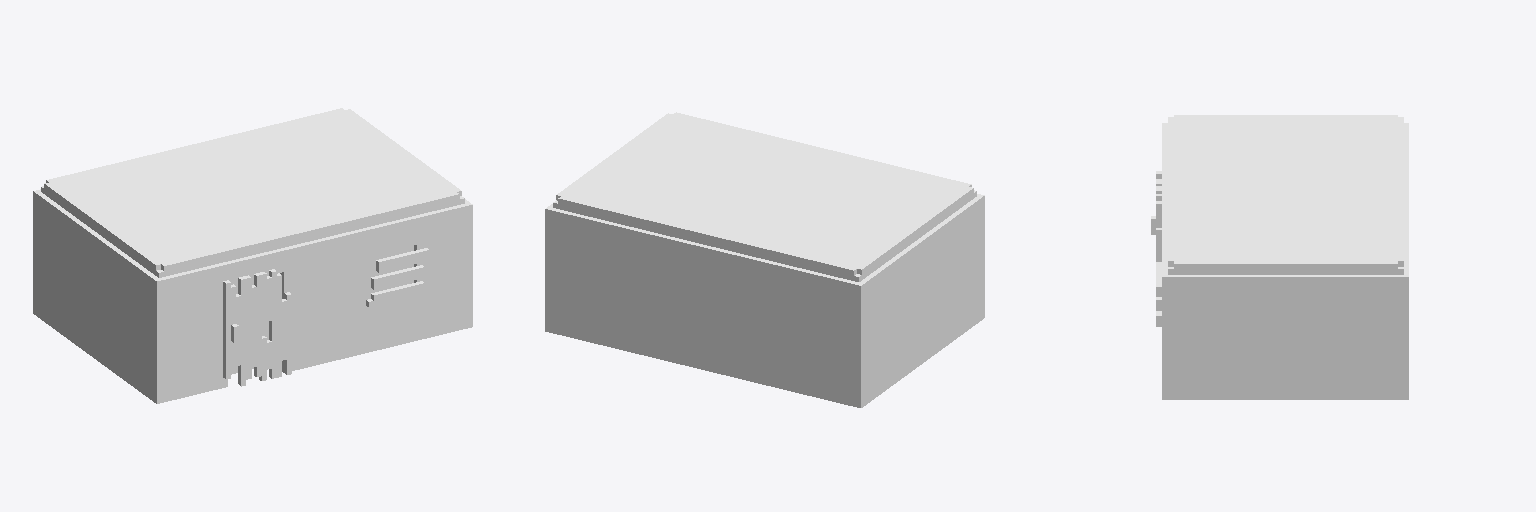
The model's file is SkeletonLair-12.obj.
3 renders of one model, left to right at view 1: azimuth 30°, elevation 25°; view 2: azimuth 150°, elevation 25°; view 3: azimuth 270°, elevation 25°, orthographic.
Parts seen in each view (by area): view 1: object 1; view 2: object 1; view 3: object 1.
Boxes of the visible parts, box(x1,y1,x2,y2) form: object 1: box(33, 108, 472, 403); object 1: box(545, 112, 984, 407); object 1: box(1151, 115, 1408, 399).
Size of the model in its own units: 6.2 by 2.5 by 4.4.